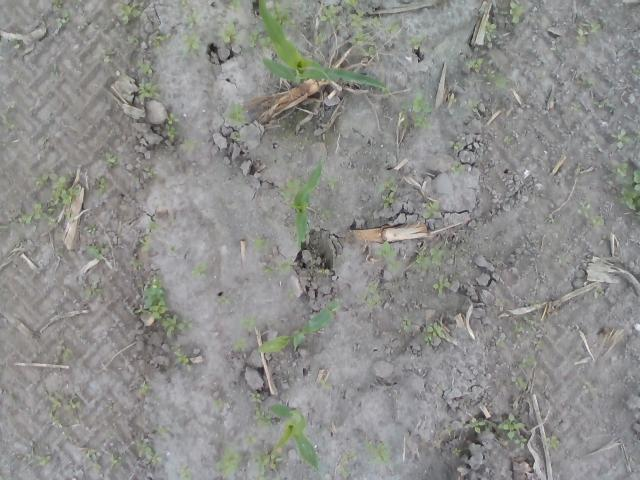Maize: (259, 0, 385, 90), (256, 308, 334, 355), (270, 403, 320, 470), (293, 160, 323, 250)
Weeds: (136, 273, 193, 337), (20, 171, 80, 225), (340, 0, 382, 56), (610, 156, 640, 227), (462, 54, 510, 90), (180, 0, 208, 57), (399, 84, 434, 129), (44, 392, 82, 428), (497, 412, 528, 450), (213, 442, 240, 480), (413, 245, 450, 271), (268, 0, 298, 29), (252, 449, 280, 480), (250, 390, 272, 428), (276, 176, 304, 204), (222, 95, 248, 125), (576, 198, 606, 224), (377, 241, 401, 273), (576, 18, 604, 44), (366, 439, 394, 465), (374, 176, 396, 208), (134, 439, 161, 464), (169, 341, 193, 369), (356, 280, 384, 304), (260, 255, 294, 274), (115, 2, 143, 25), (422, 320, 447, 345), (216, 18, 238, 46), (140, 222, 160, 251), (246, 27, 272, 48), (137, 78, 161, 100), (54, 0, 70, 32), (128, 57, 158, 73), (430, 272, 450, 296), (337, 450, 353, 479), (508, 0, 527, 24), (25, 448, 50, 466), (163, 110, 177, 142), (422, 198, 442, 220), (232, 334, 253, 354), (319, 5, 341, 24), (463, 416, 486, 434), (612, 128, 631, 149), (516, 351, 536, 369), (398, 313, 416, 333), (82, 286, 104, 302), (191, 260, 210, 278), (406, 31, 426, 48), (0, 110, 17, 130), (312, 30, 329, 50), (78, 446, 98, 462), (150, 34, 170, 50), (103, 148, 119, 168), (182, 136, 199, 154), (238, 313, 257, 329), (483, 20, 498, 40), (85, 244, 106, 258), (317, 376, 335, 392), (94, 176, 108, 196), (213, 294, 236, 306), (59, 343, 72, 364), (450, 159, 466, 176), (143, 160, 160, 176), (252, 234, 268, 251), (78, 222, 98, 235), (544, 433, 560, 449), (176, 464, 192, 480), (313, 207, 332, 220), (322, 301, 344, 312), (466, 98, 481, 113), (126, 34, 142, 48), (226, 0, 242, 13), (513, 377, 528, 390), (244, 433, 257, 447), (510, 320, 525, 332), (154, 424, 171, 434), (386, 22, 400, 34), (591, 99, 609, 108), (112, 454, 122, 470), (104, 48, 114, 64), (138, 382, 150, 395), (449, 140, 464, 150), (495, 336, 506, 349), (326, 174, 336, 188), (129, 259, 143, 269), (213, 398, 225, 408), (230, 131, 242, 141), (54, 246, 64, 258), (275, 439, 288, 448), (582, 78, 593, 88), (446, 95, 458, 104), (503, 136, 513, 146), (382, 87, 392, 97), (534, 340, 545, 348), (451, 448, 462, 456), (544, 218, 558, 224), (318, 268, 330, 274), (169, 243, 176, 252), (0, 224, 10, 230), (95, 464, 102, 472), (288, 288, 294, 297), (315, 430, 322, 437), (72, 0, 80, 5)
